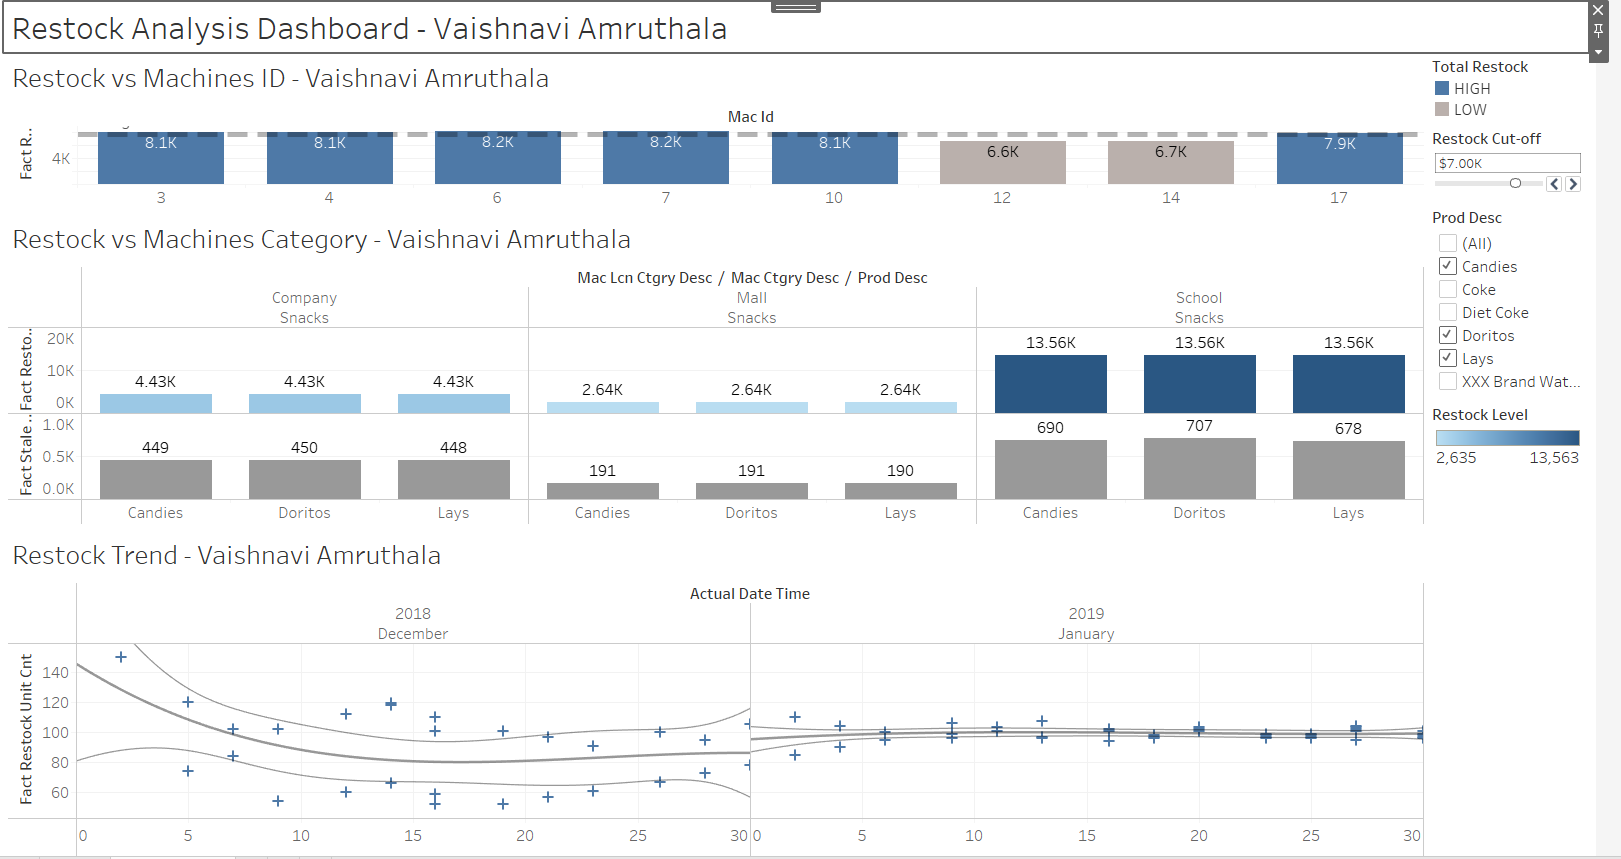

What the dashboard file says about the page in this screenshot:
{"tool":"tableau","page":{"name":"Dashboard 1","canvas":[1600,900],"ordinal":0},"visuals":[{"type":"title","box":[8,8,1584,50]},{"type":"worksheet","title":"Sheet 1","mark":"Automatic","rows":["fact_restock_unit_cnt"],"cols":["mac_id"],"box":[8,58,1424,160.6]},{"type":"legend","title":"Sheet 1","param":"[federated.0q7ef4n1dvlnd11c1bm8o0rff65h].[io:Mac Id Set:nk]","box":[1432,58,160,72]},{"type":"parameter","param":"[Parameters].[Parameter 1]","box":[1432,130,160,79]},{"type":"filter","title":"Sheet 2","param":"[federated.0q7ef4n1dvlnd11c1bm8o0rff65h].[none:prod_desc:nk]","box":[1432,209,160,197]},{"type":"worksheet","title":"Sheet 2","mark":"Automatic","rows":["fact_restock_unit_cnt","fact_stale_unit_cnt"],"cols":["mac_lcn_ctgry_desc","mac_ctgry_desc","prod_desc"],"box":[8,218.6,1424,315.9]},{"type":"legend","title":"Sheet 2","param":"[federated.0q7ef4n1dvlnd11c1bm8o0rff65h].[sum:fact_restock_unit_cnt:qk]","box":[1432,406,160,73]},{"type":"worksheet","title":"Sheet 3","mark":"Shape","rows":["fact_restock_unit_cnt"],"cols":["actual_date_time","actual_date_time","day_in_month"],"box":[8,534.6,1424,357.4]}]}

Visuals, with their boxes on the page's 1600x900 design canvas (x1, y1, x2, y2). These are canvas units, not pixel positions in the 1621x859 screenshot, which may show the page scaled, cropped or inside an application window:
title: (8, 8, 1592, 58)
"Sheet 1" worksheet: (8, 58, 1432, 219)
"Sheet 1" legend: (1432, 58, 1592, 130)
parameter: (1432, 130, 1592, 209)
"Sheet 2" filter: (1432, 209, 1592, 406)
"Sheet 2" worksheet: (8, 219, 1432, 534)
"Sheet 2" legend: (1432, 406, 1592, 479)
"Sheet 3" worksheet (Shape marks): (8, 535, 1432, 892)
